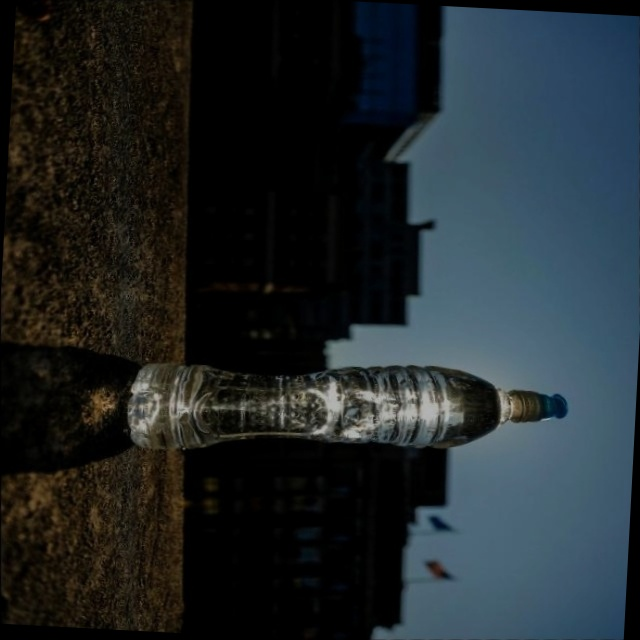Plastic-bottle: (113, 353, 580, 460)
